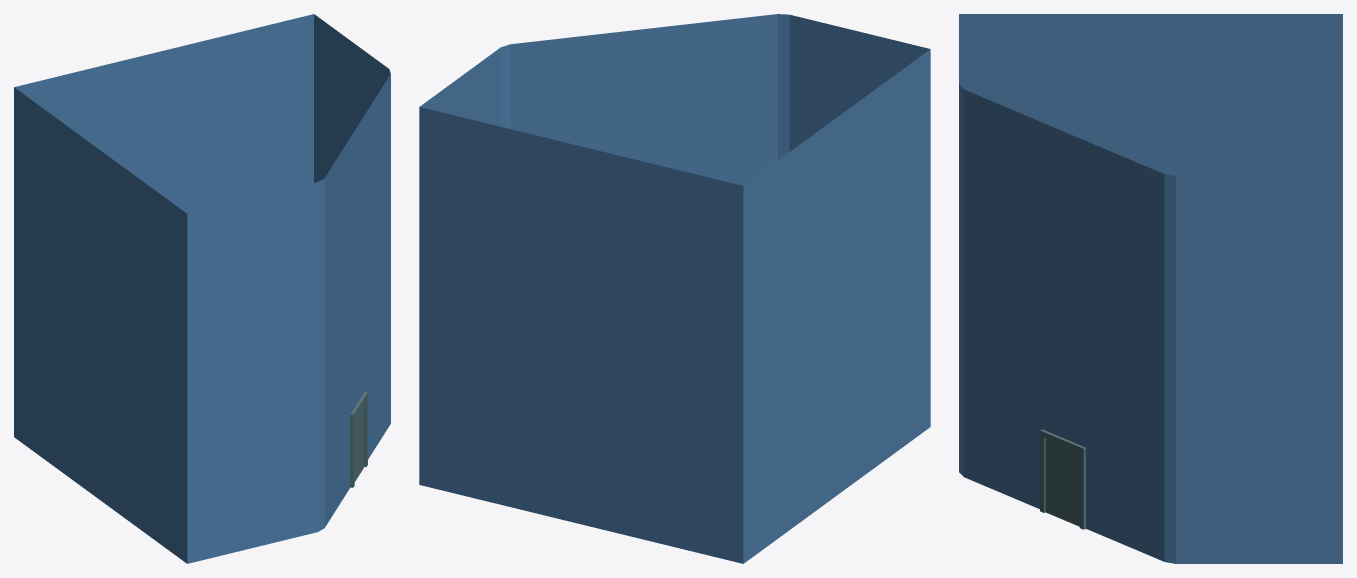
Rendered from Ciudad_Edificio_Esquina_03.FBX.
3 renders of one model, left to right at view 1: azimuth 30°, elevation 25°; view 2: azimuth 150°, elevation 25°; view 3: azimuth 270°, elevation 25°, orthographic. The views are drawn at different scales.
Visible parts, largest first — view 1: Ciudad_Edificio_Esquina_03; view 2: Ciudad_Edificio_Esquina_03; view 3: Ciudad_Edificio_Esquina_03.
Boxes of the visible parts, x1=… form: Ciudad_Edificio_Esquina_03: x1=14, y1=14, x2=390, y2=563; Ciudad_Edificio_Esquina_03: x1=419, y1=14, x2=930, y2=563; Ciudad_Edificio_Esquina_03: x1=959, y1=14, x2=1342, y2=563.
Size of the model in its own units: 1150 by 1150 by 1282.
